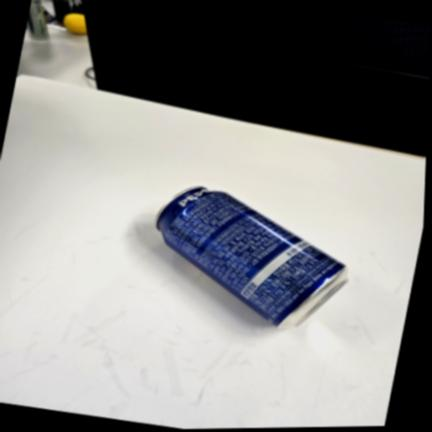can_pepsi: (156, 187, 347, 328)
